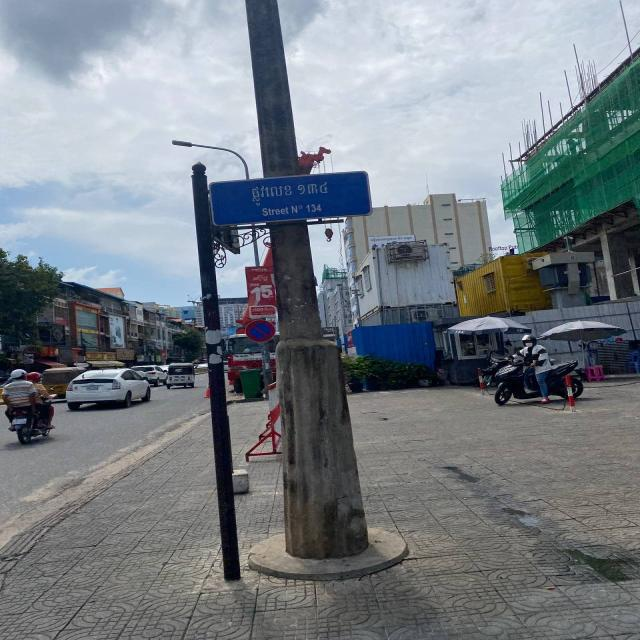Yolov11_80vkh: (238, 174, 332, 207)
